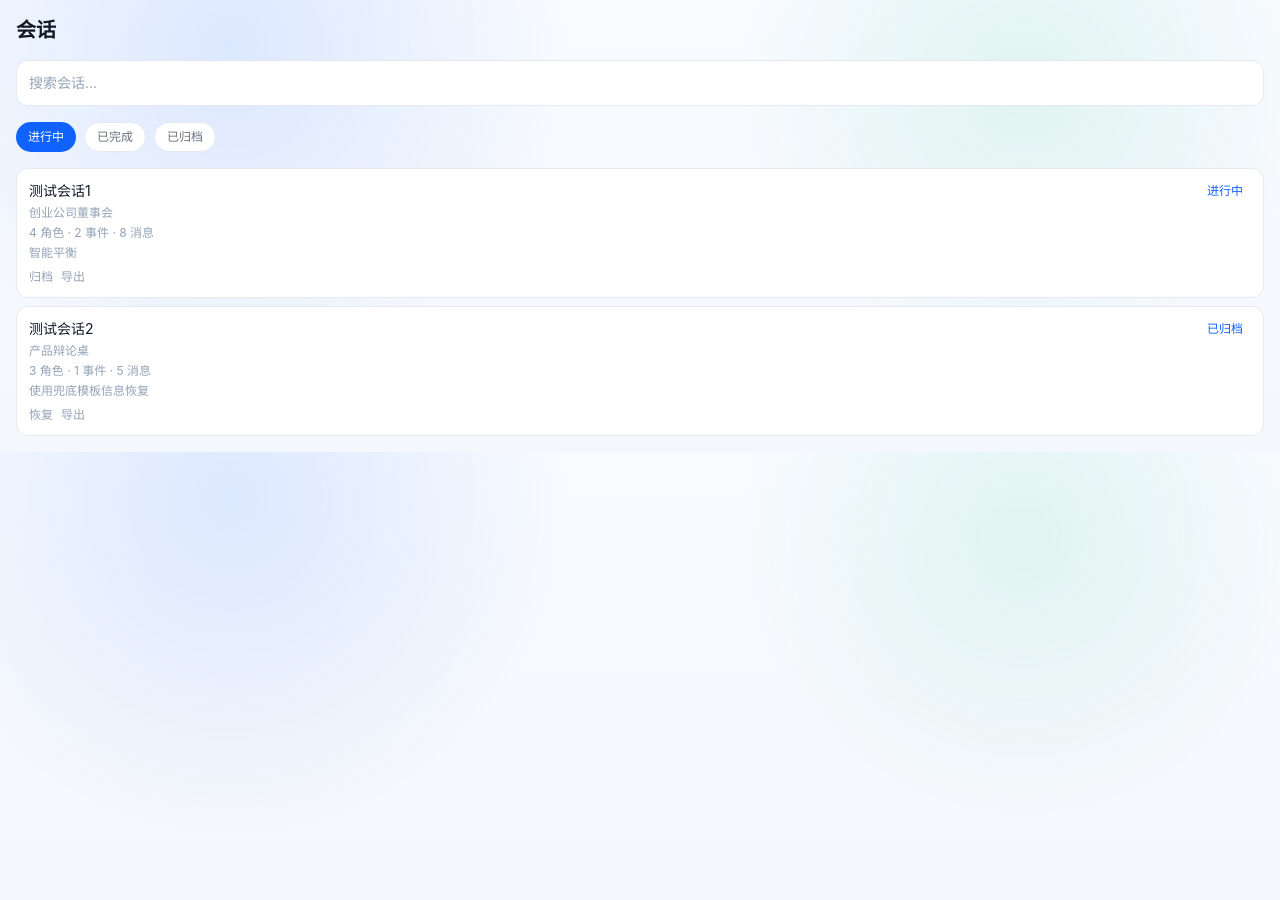
it: Task-11: SessionsModule › shows an error state when a filtered fetch returns unsuccessfully
The image size is (1280, 900).
Expected: the text "测试会话1" is shown, x1=29 y1=182 x2=91 y2=199
Click the button "已归档" at (185, 137), box x1=154 y1=122 x2=216 y2=152
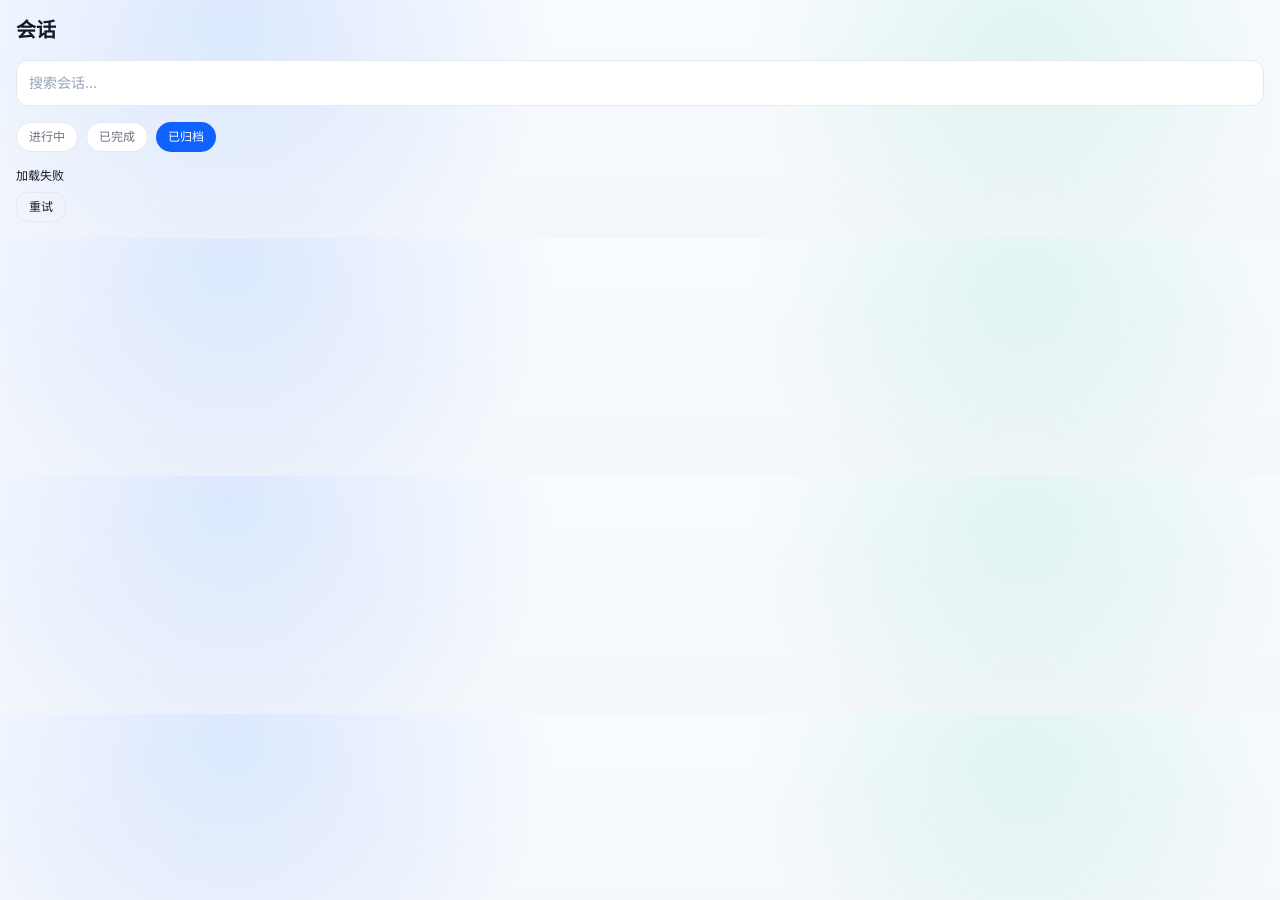
Now the button "测试会话1" is gone
Now the text "加载失败" is shown, box x1=16 y1=168 x2=64 y2=183
